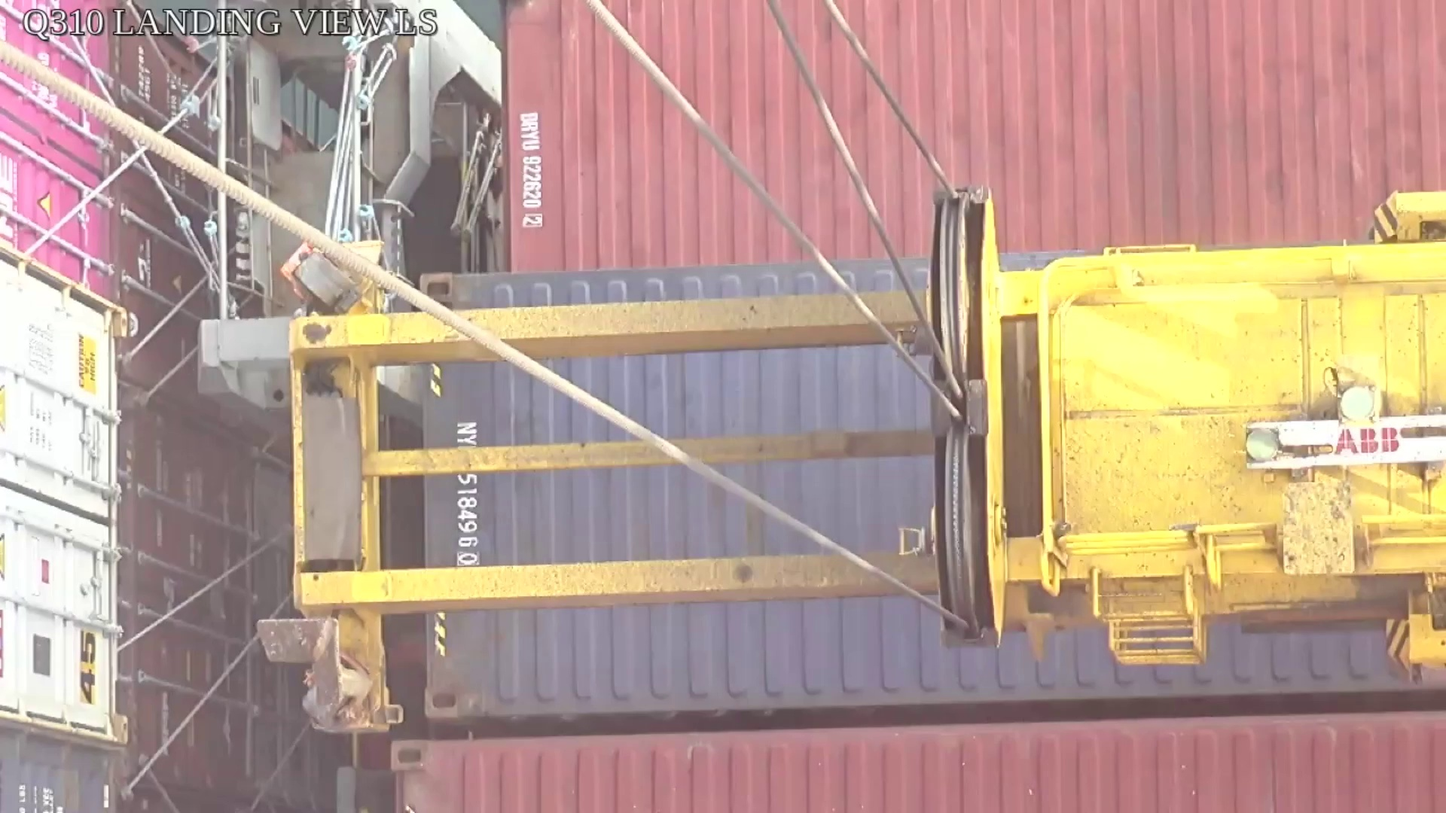aa: (926, 190, 1011, 648)
